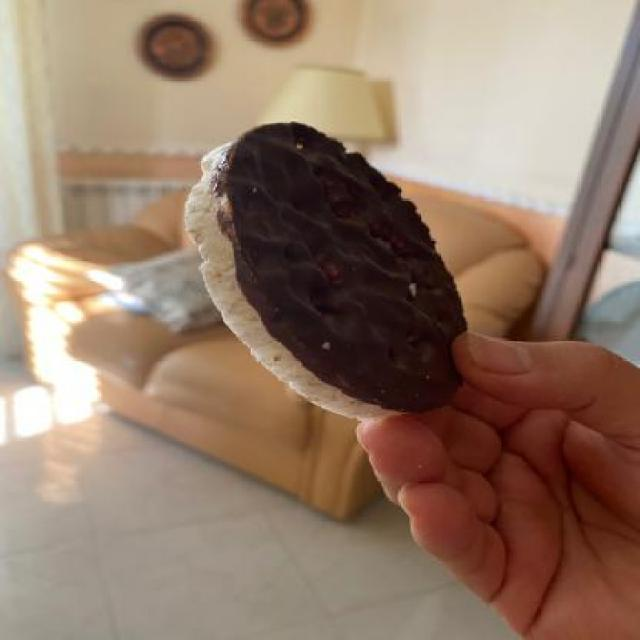Gallette di riso packaged: (179, 120, 481, 420)
